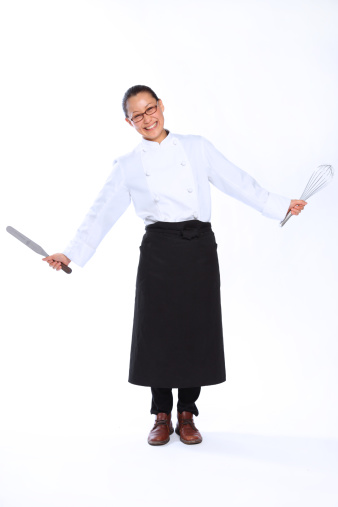em pe: (45, 70, 305, 446)
